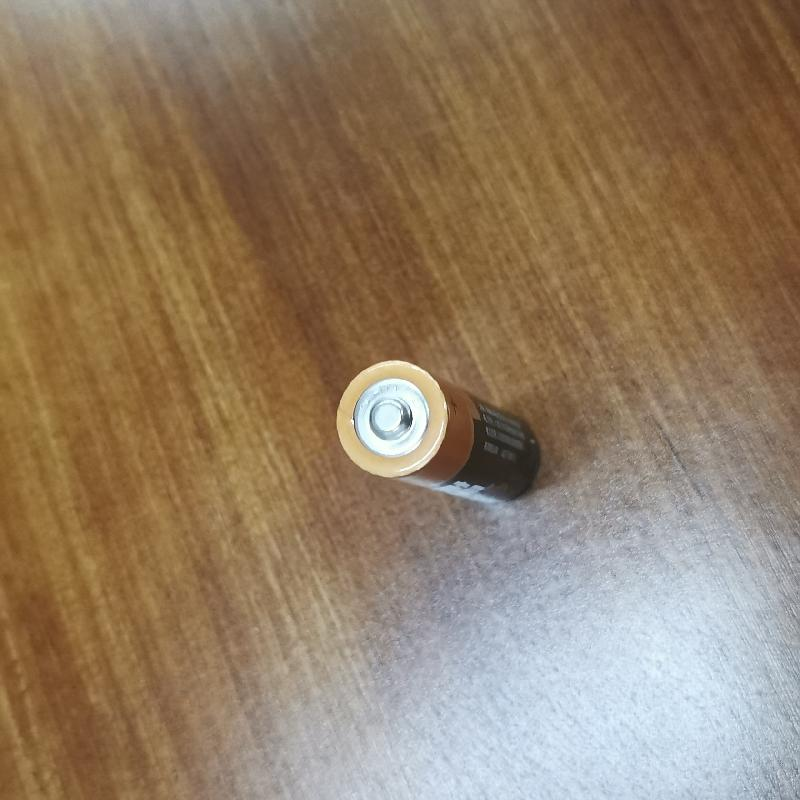battery: (336, 358, 544, 517)
